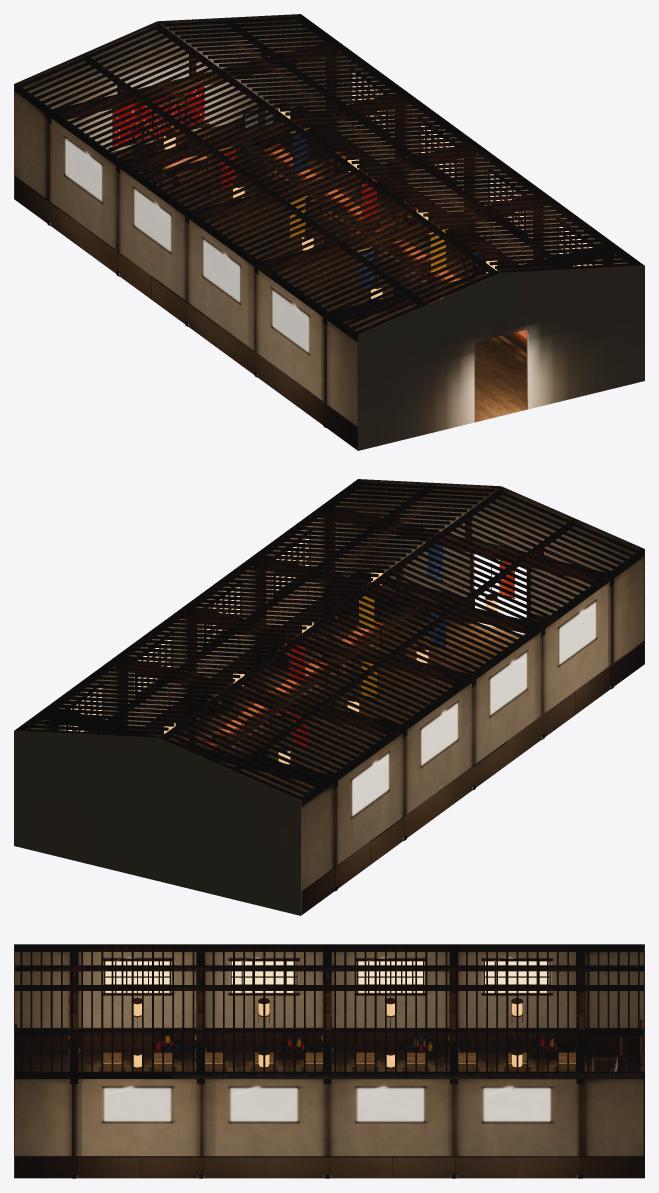
The model's file is thread-hall.glb.
3 views of the same model, one above another, from view 1: azimuth 30°, elevation 25°; view 2: azimuth 150°, elevation 25°; view 3: azimuth 270°, elevation 25° (orthographic). The views are drawn at different scales.
Parts seen in each view (by area): view 1: hall_roof, hall_ends, hall_wall_left, hall_wall_right, hall_floor_b, hall_floor_a, hall_props, hall_displays; view 2: hall_roof, hall_ends, hall_wall_left, hall_wall_right, hall_floor_a, hall_props, hall_floor_b, hall_displays; view 3: hall_wall_right, hall_wall_left, hall_roof, hall_floor_a, hall_props, hall_floor_b, hall_displays, hall_ends.
Part boxes in pixels (box(x1,y1,x2,y2)): hall_roof: box(18, 16, 639, 333); hall_ends: box(14, 14, 644, 450); hall_wall_left: box(14, 84, 359, 449); hall_wall_right: box(298, 14, 643, 270); hall_floor_b: box(21, 133, 461, 295); hall_floor_a: box(220, 257, 527, 422); hall_props: box(163, 73, 497, 304); hall_displays: box(263, 143, 526, 358); hall_roof: box(18, 482, 639, 799); hall_ends: box(14, 479, 644, 915); hall_wall_left: box(299, 549, 644, 914); hall_wall_right: box(15, 479, 360, 733); hall_floor_a: box(199, 600, 637, 760); hall_props: box(163, 538, 515, 764); hall_floor_b: box(175, 723, 470, 852); hall_displays: box(201, 619, 384, 749); hall_wall_right: box(15, 1071, 643, 1178); hall_wall_left: box(15, 944, 643, 1053); hall_roof: box(15, 945, 643, 1071); hall_floor_a: box(16, 1050, 323, 1178); hall_props: box(68, 970, 562, 1071); hall_floor_b: box(331, 1050, 642, 1178); hall_displays: box(103, 1052, 575, 1071); hall_ends: box(14, 944, 644, 1178).
Size of the model in its own units: 12.1 by 5.71 by 24.93.
10 materials, 8 textured.
